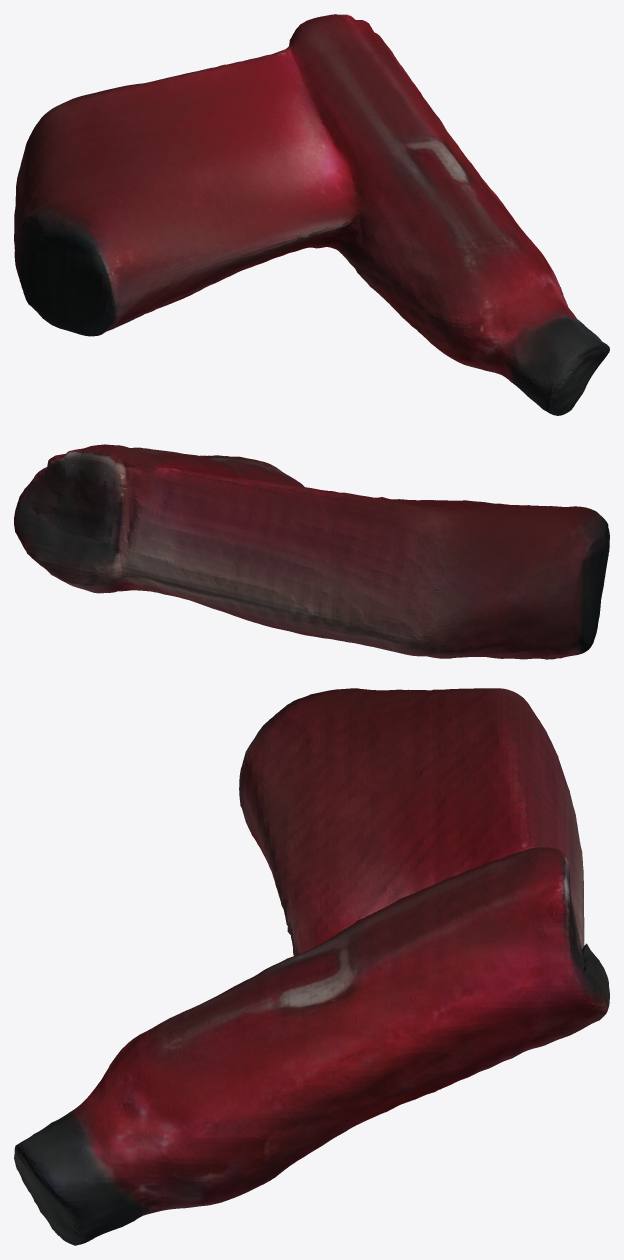
The model's file is 0_rgba.obj.
3 renders of one model, top to bottom at view 1: azimuth 30°, elevation 25°; view 2: azimuth 150°, elevation 25°; view 3: azimuth 270°, elevation 25°, orthographic. The views are drawn at different scales.
Bounding box in the file's own units: 1.92 × 1.08 × 1.66.
Materials: 1 (1 with a texture image).
